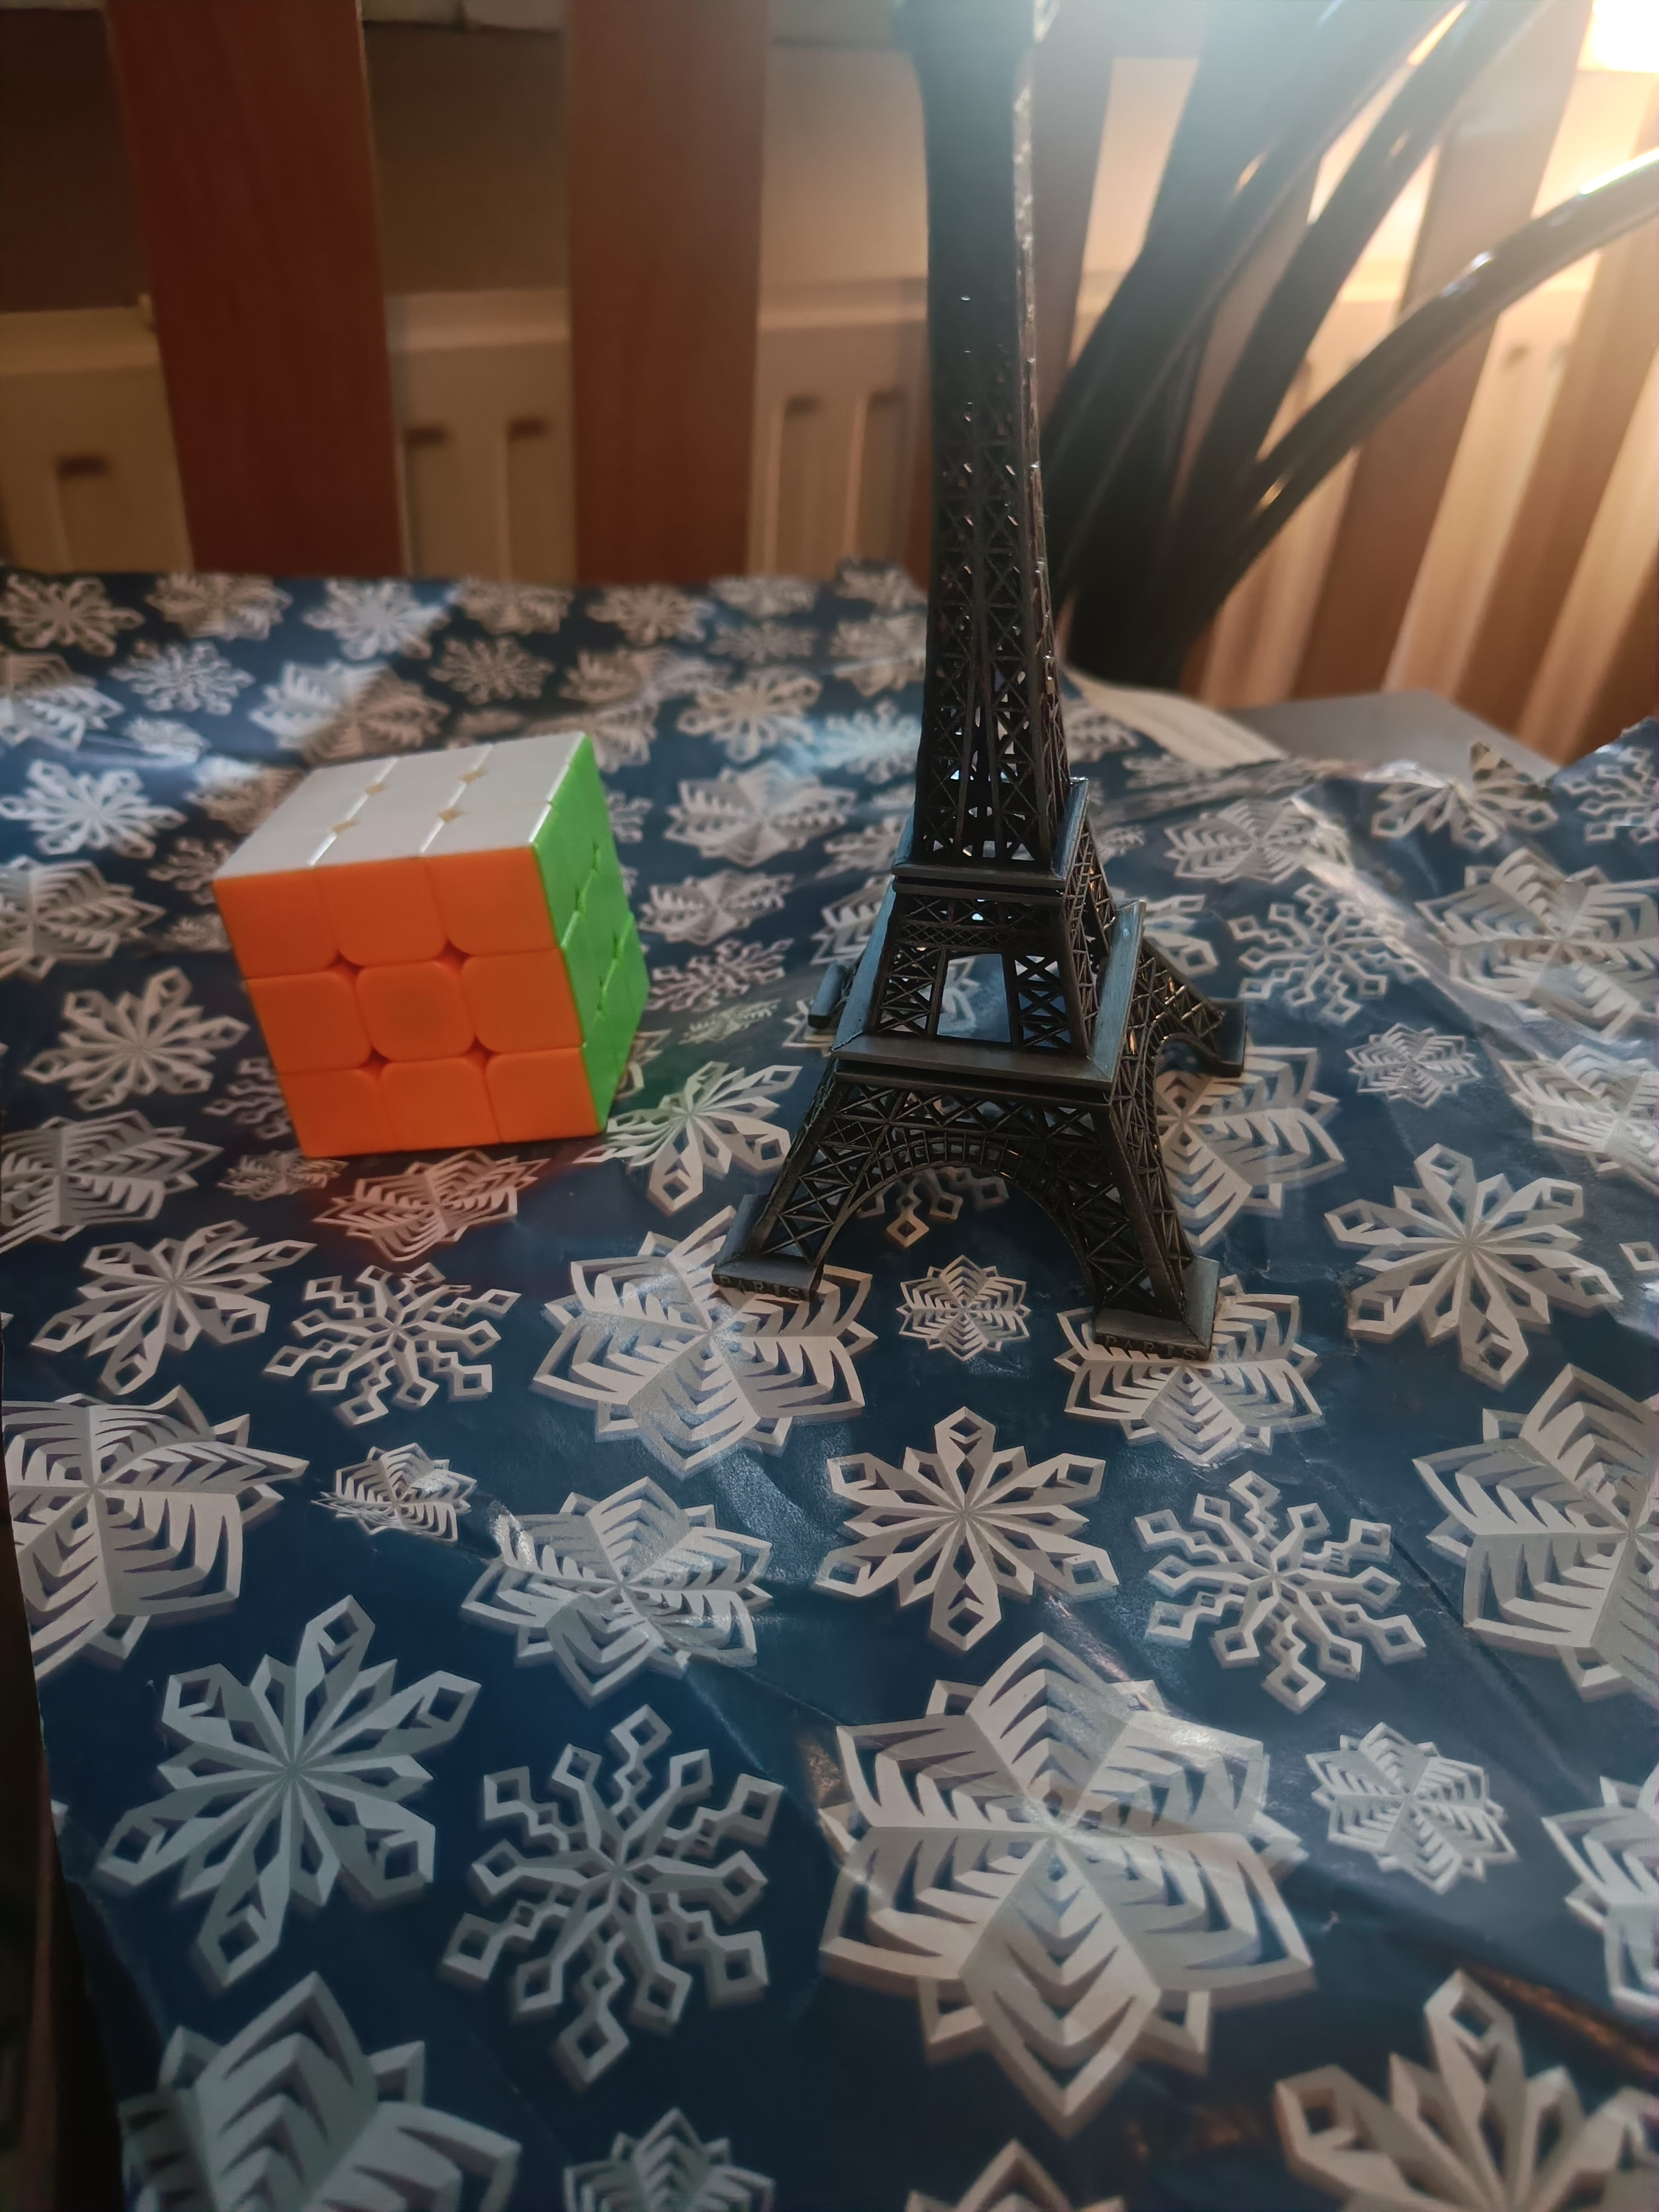Eiffel Tower: (702, 0, 1276, 1364)
Rubiks Cube: (213, 697, 666, 1176)
